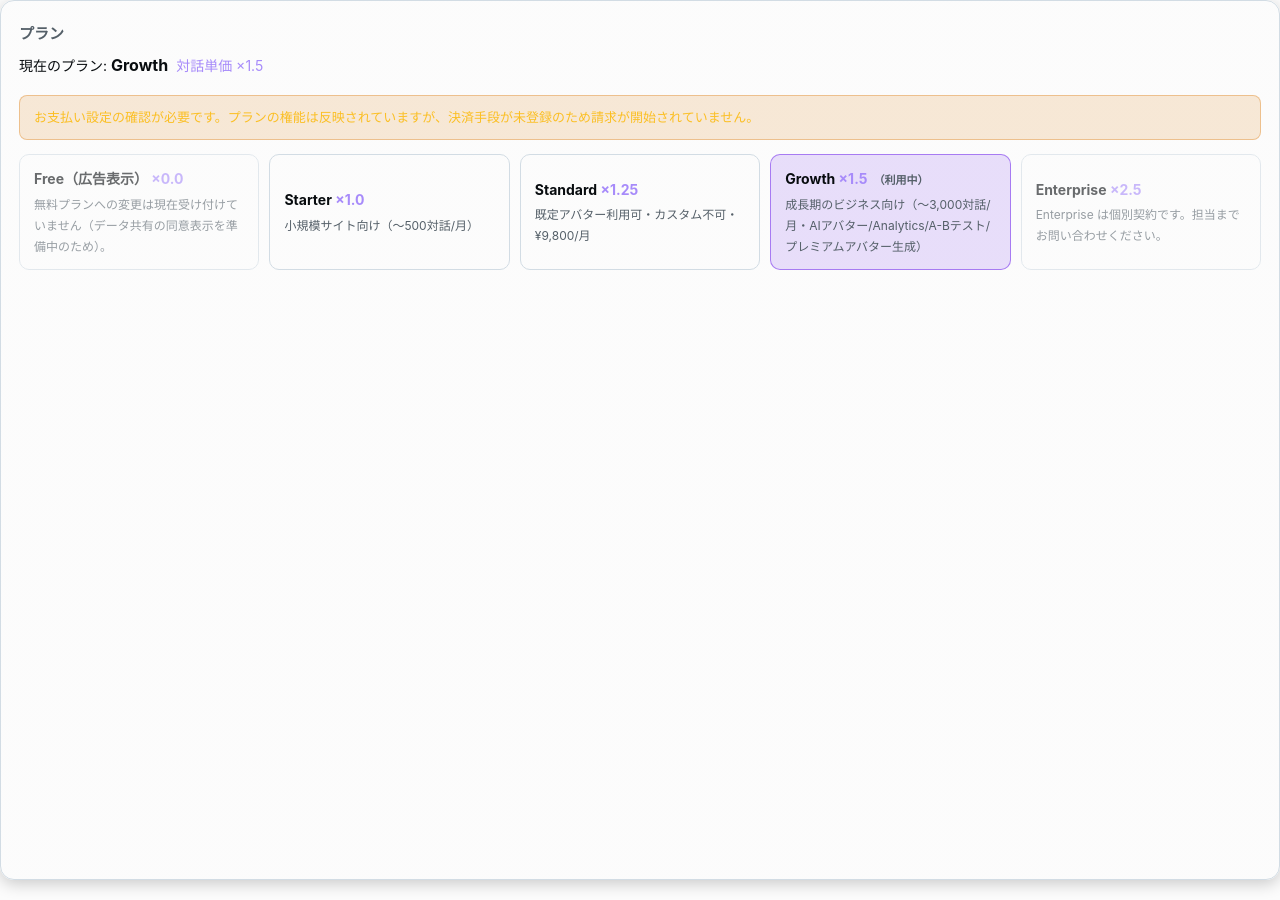
PlanSection › Growth → Standard の降格で失うのはカスタマイズであって、アバター本体ではない
Click the button "Standard ×1.25 既定アバター利用可・カスタム不可・¥9,800/月" at (640, 212), box [520,154,760,270]
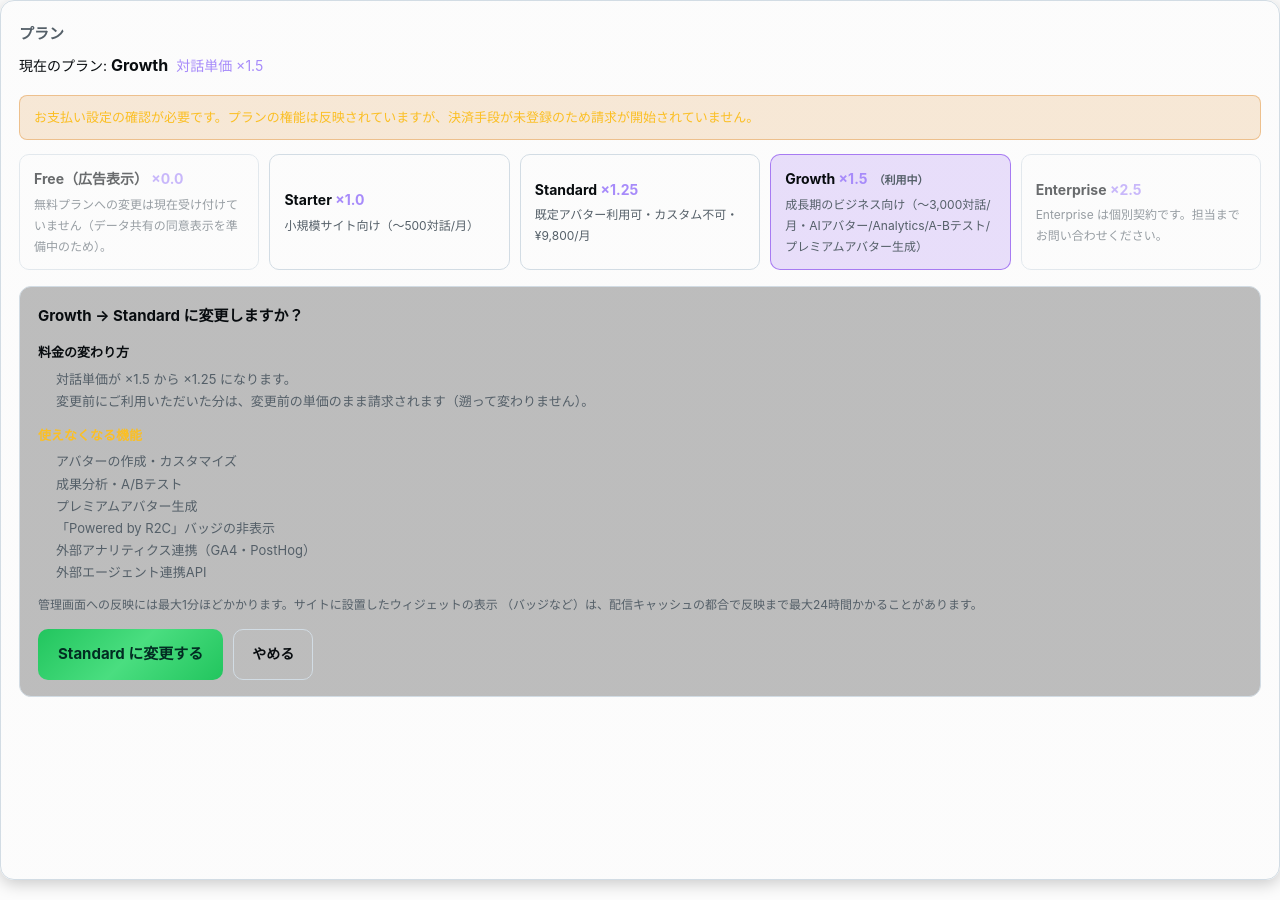
Expected: the text "使えなくなる機能" is shown, [38,427,142,443]
Expected: the list item "アバターの作成・カスタマイズ" is shown, [56,453,237,469]
